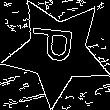P_E: (30, 30, 84, 72)
